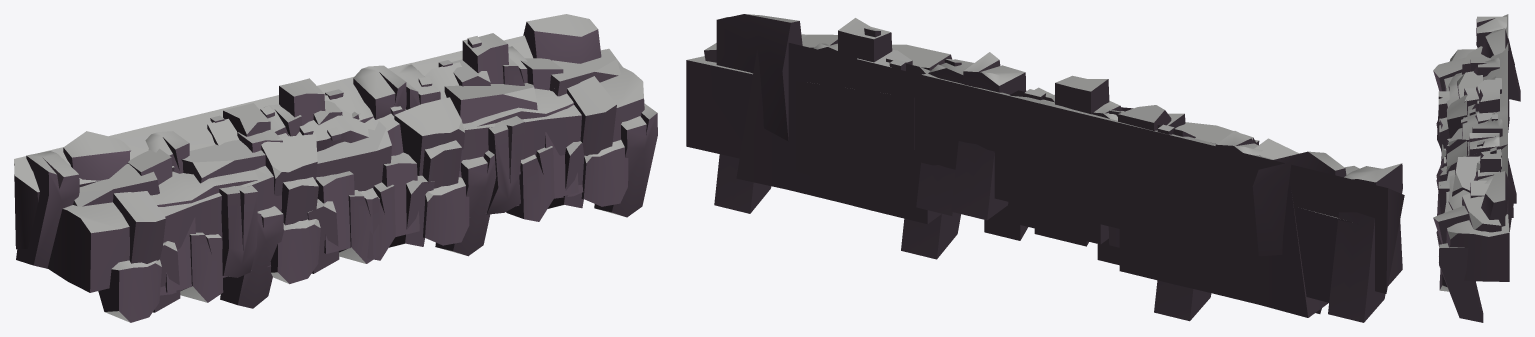
File: env01_skirt02_36.FBX
3 views of the same model, side by side, from view 1: azimuth 30°, elevation 25°; view 2: azimuth 150°, elevation 25°; view 3: azimuth 270°, elevation 25° (orthographic). The views are drawn at different scales.
Parts seen in each view (by area): view 1: env01_skirt02; view 2: env01_skirt02; view 3: env01_skirt02.
Boxes of the visible parts, box(x1,y1,x2,y2) form: env01_skirt02: box(14, 14, 657, 322); env01_skirt02: box(686, 14, 1404, 322); env01_skirt02: box(1433, 14, 1520, 322).
Size of the model in its own units: 1531 by 464 by 288.
